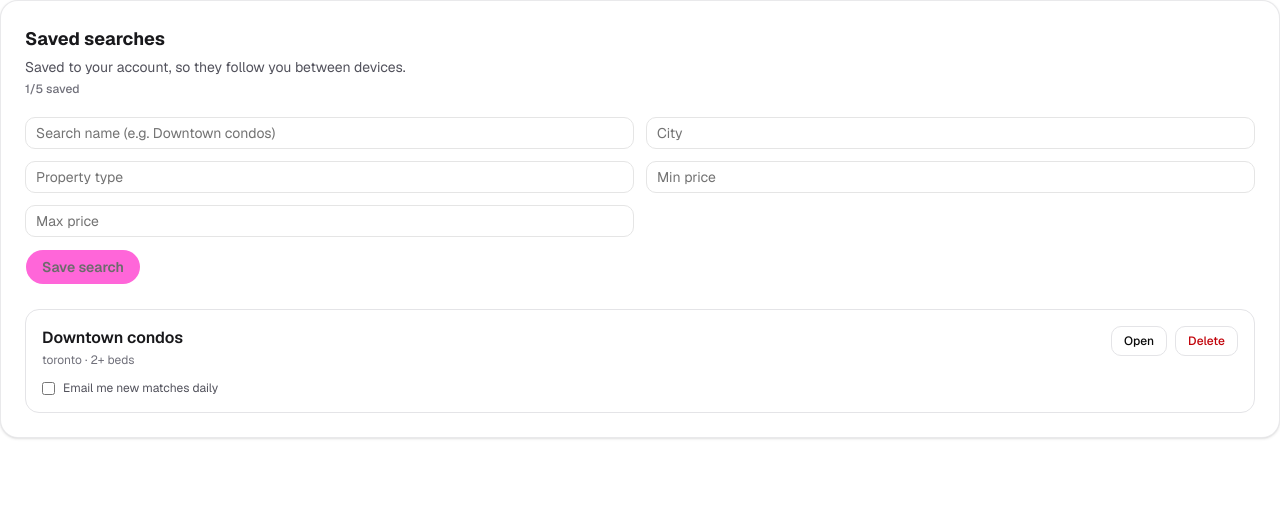
Test: turning emails on says new matches only, not the back catalogue
Click the checkbox labelled "Email me new matches daily": (48, 388) [42,382,55,394]
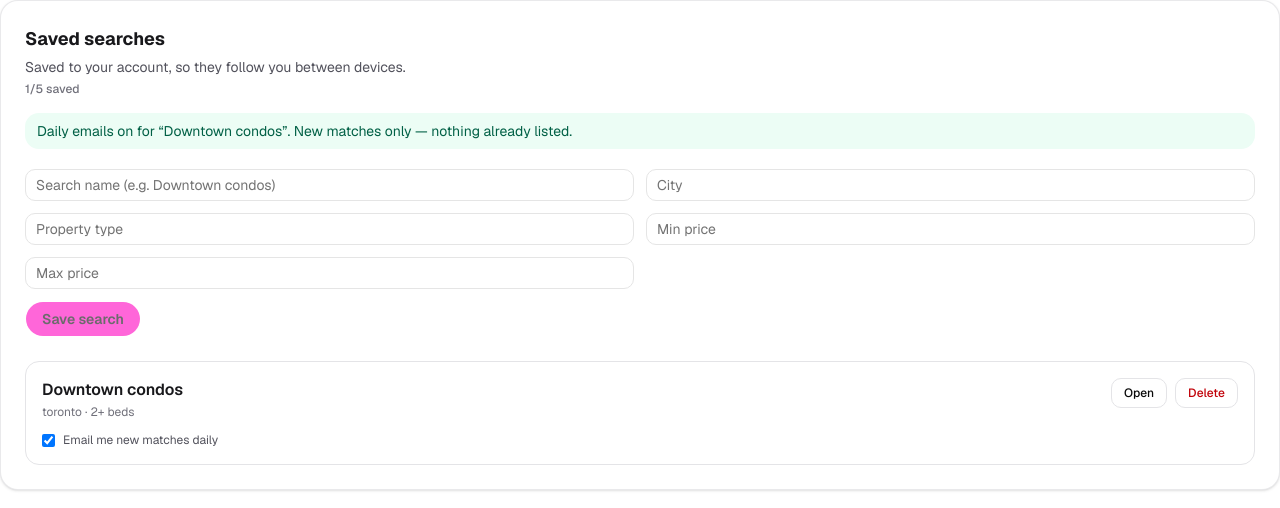
Expected: the message shows "New matches only", [37,122,572,140]
